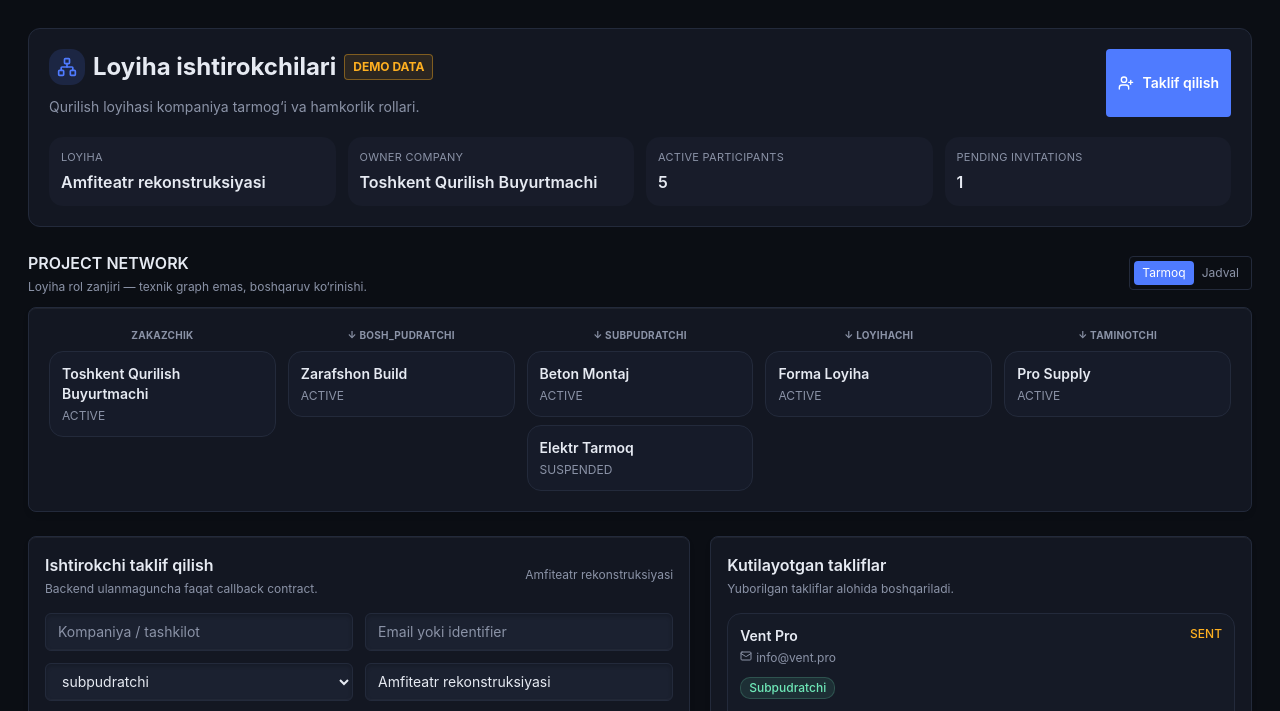
participant network visible slice › renders canonical roles and demo summary
Expected: the text "DEMO DATA" is shown, x1=344 y1=54 x2=433 y2=80
Click the button "Jadval" at {"x": 1220, "y": 272}, box x1=1194 y1=260 x2=1247 y2=284
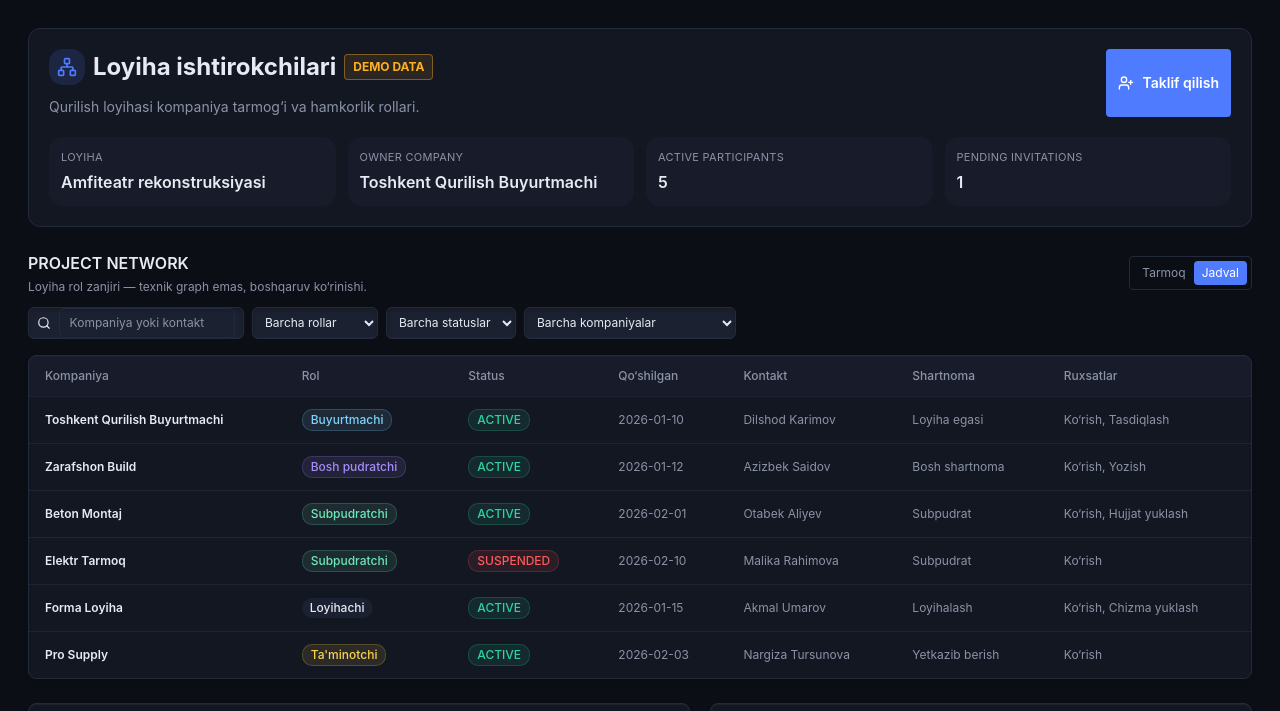
Expected: the text "Buyurtmachi" is shown, x1=302 y1=408 x2=392 y2=430
Expected: the text "Bosh pudratchi" is shown, x1=302 y1=456 x2=406 y2=478
Expected: the text "Ta'minotchi" is shown, x1=302 y1=644 x2=386 y2=666
